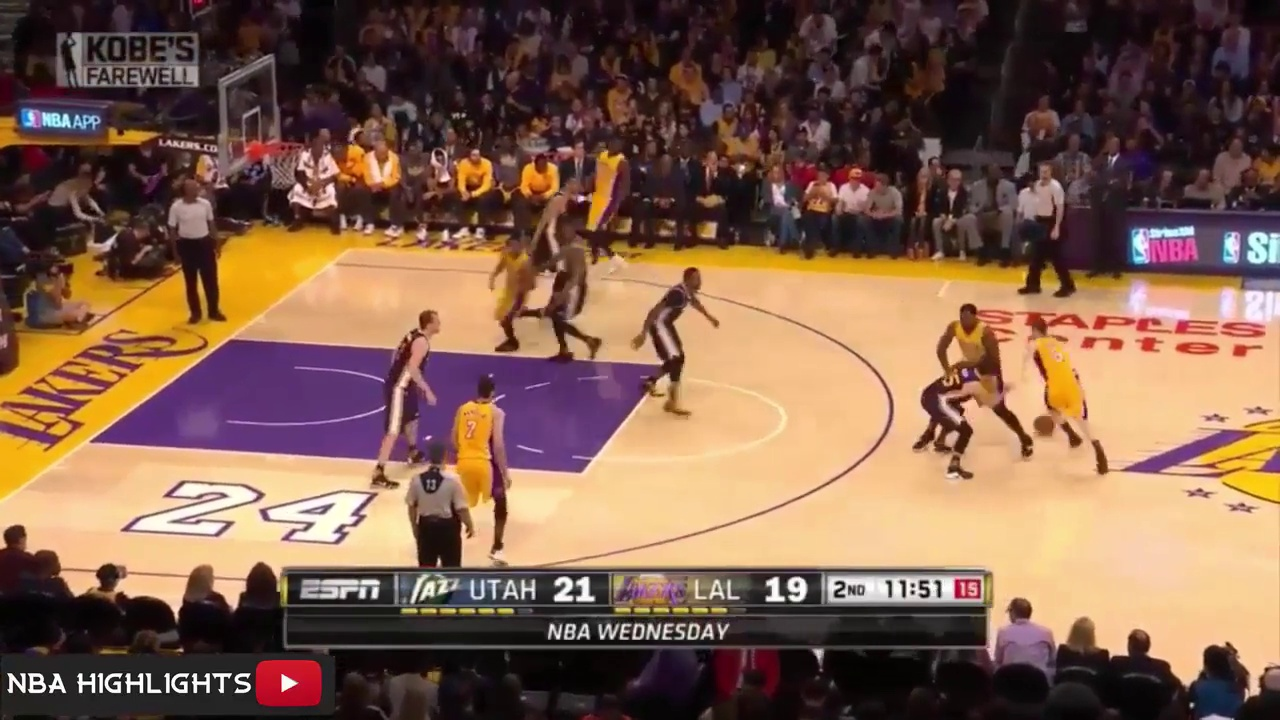jazz: (911, 358, 1012, 486), (372, 305, 445, 480), (638, 262, 718, 410), (549, 224, 600, 367), (537, 174, 581, 271)
lakers: (1026, 319, 1115, 474), (456, 378, 510, 564), (485, 232, 544, 358), (932, 299, 1007, 381), (590, 141, 636, 273)
